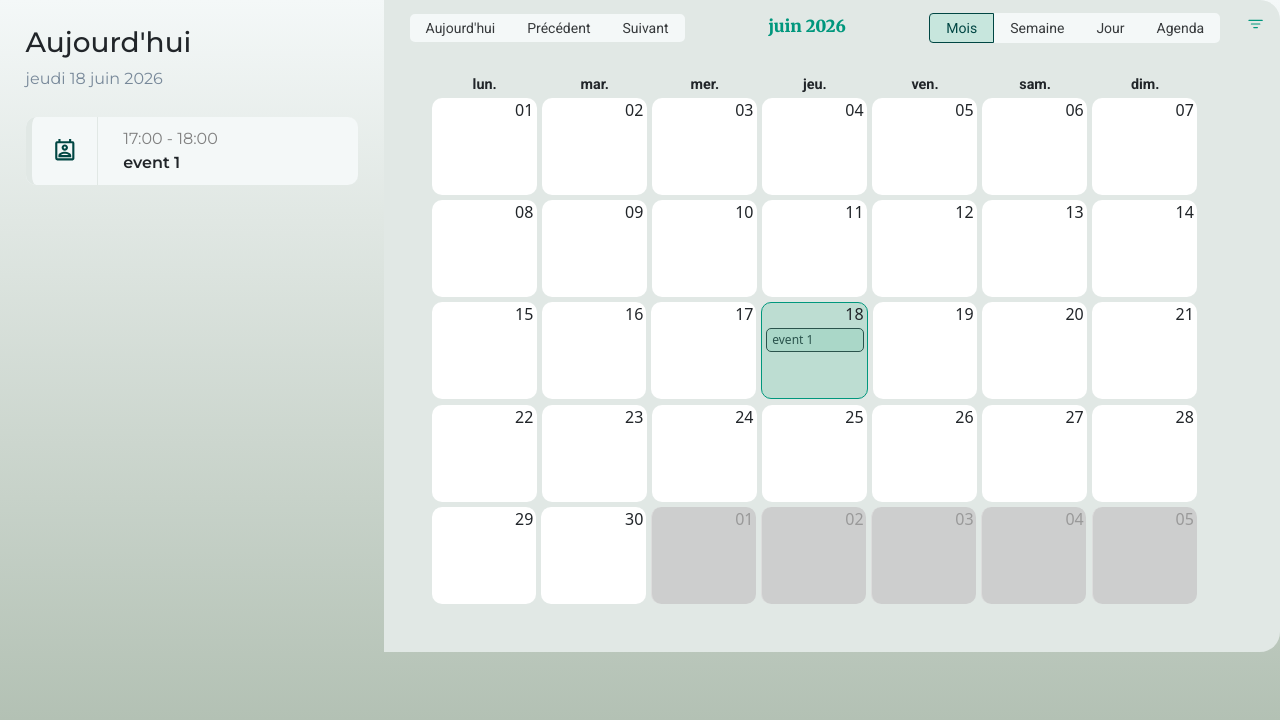
Test: Agenda › Should render selected event when user click on event from today's event view
Click the element with test id "rbcEvent": (815, 340) [766,328,864,352]
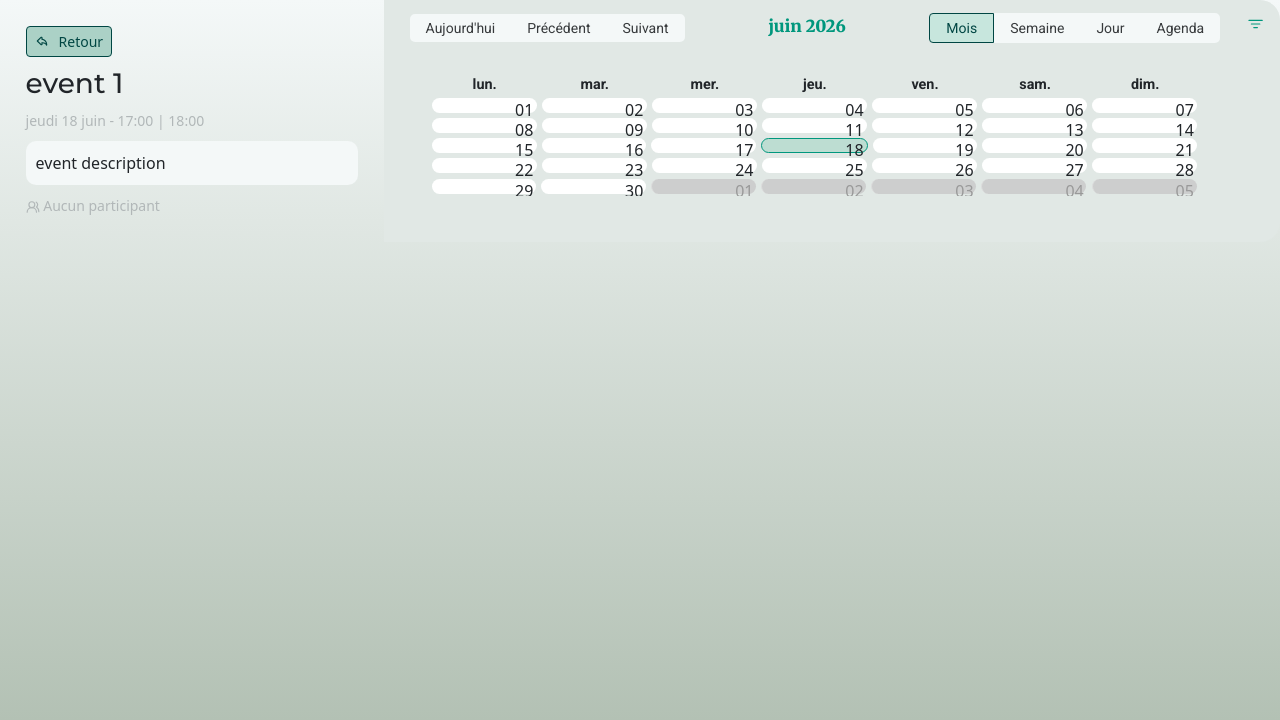
Now the heading reads "event 1", box [26,66,123,100]
Now the text "event description" is shown, box [26,141,358,185]
Now the text with test id "selectedEventDescription" reads "event description", box [36,152,166,174]
